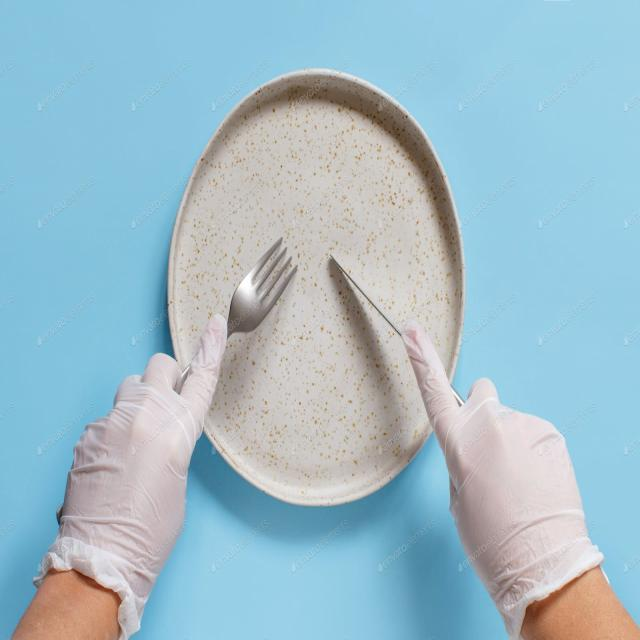fork: (169, 235, 298, 414)
